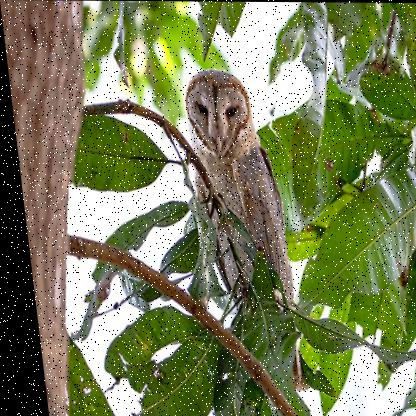Burung: (179, 68, 290, 335)
